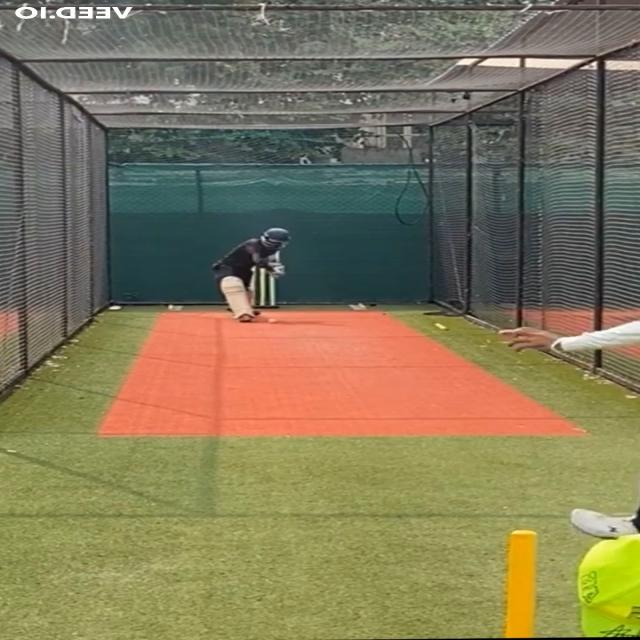ball: (265, 318, 280, 324)
stump: (248, 265, 276, 308)
